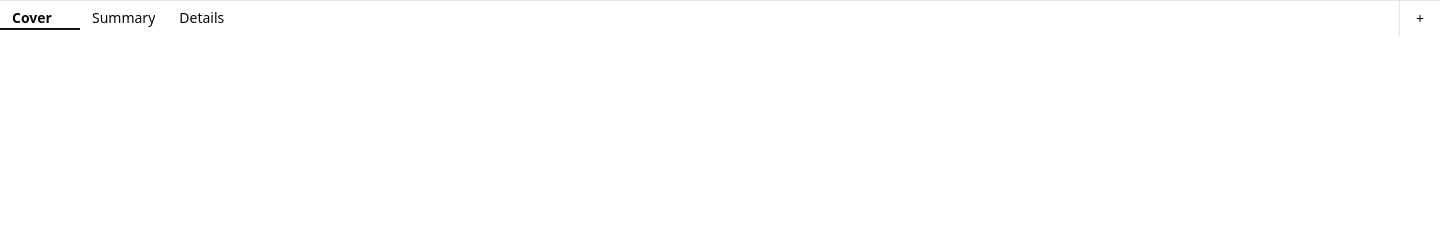
Test: PageTabBar › context menu Rename action starts rename
The width and height of the screenshot is (1440, 246).
Right-click the element with test id "page-tab-page-1".
right_click(40, 18)  # box x1=0 y1=8 x2=80 y2=30
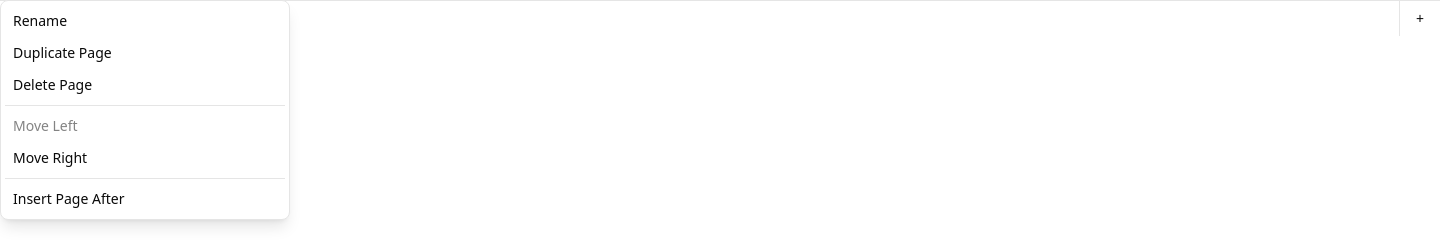
Click the button "Rename".
click(40, 20)  # box x1=5 y1=5 x2=285 y2=37
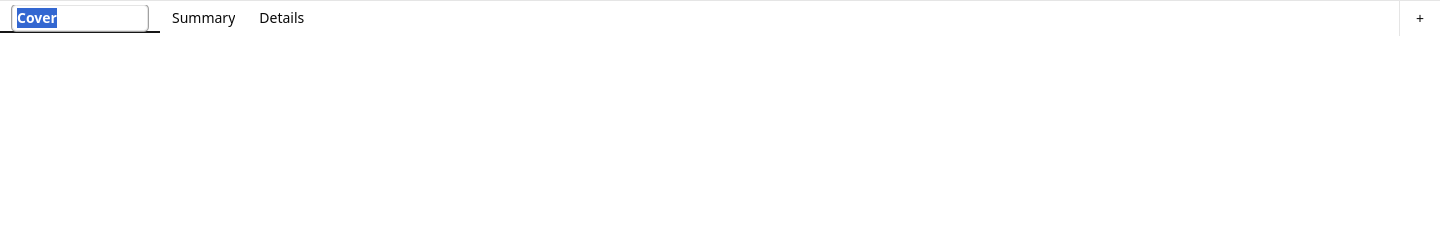
Expected: the field with test id "page-tab-rename-input" is shown, x1=12 y1=4 x2=148 y2=30
